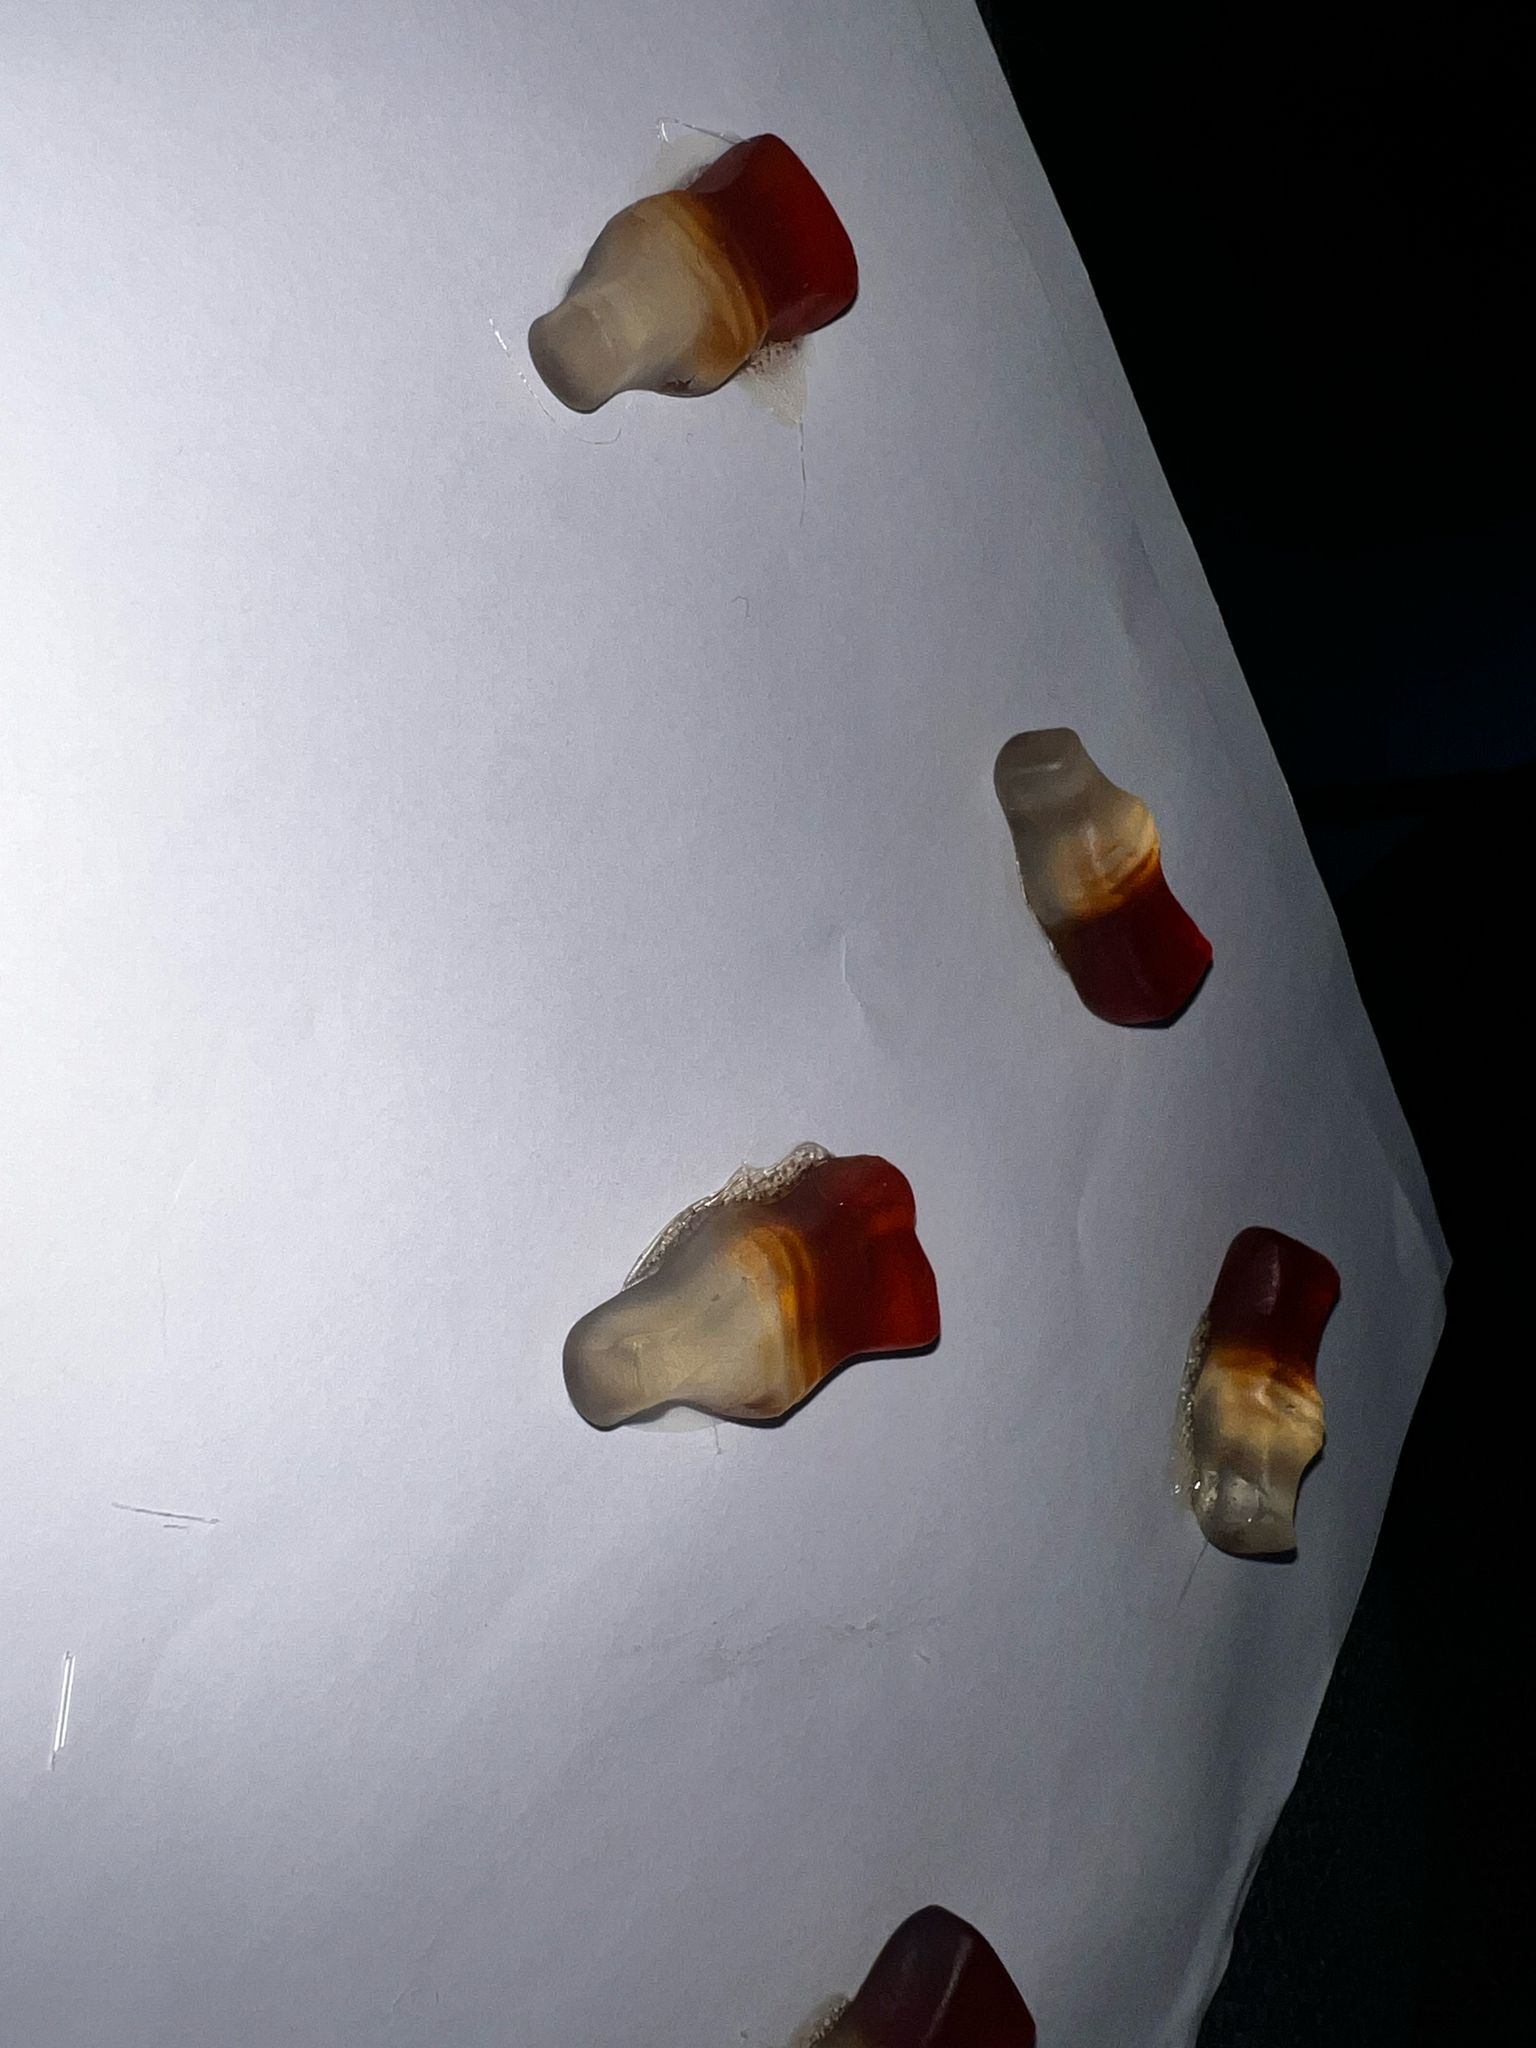cola: (560, 1135, 949, 1445), (515, 123, 870, 427), (984, 705, 1234, 1043), (1176, 1219, 1346, 1580)
